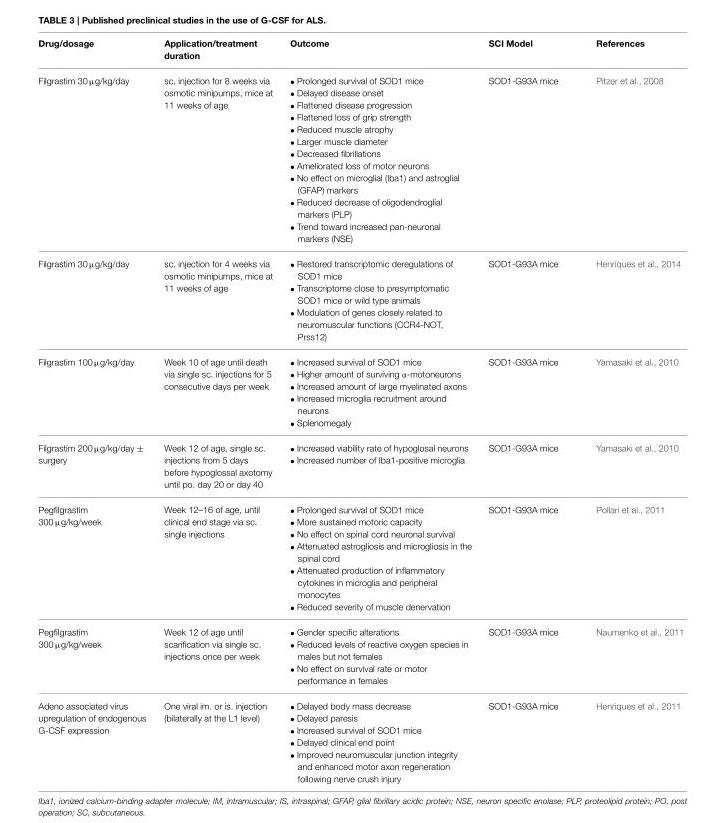table: (37, 37, 683, 783)
table column: (280, 37, 479, 783), (154, 37, 280, 783), (37, 37, 154, 783), (576, 37, 683, 783), (479, 37, 576, 783)
table column header: (37, 37, 683, 67)
table row: (37, 67, 683, 250), (37, 496, 683, 621), (37, 250, 683, 348), (37, 692, 683, 783), (37, 348, 683, 437), (37, 621, 683, 692), (37, 437, 683, 496), (37, 37, 683, 67)
